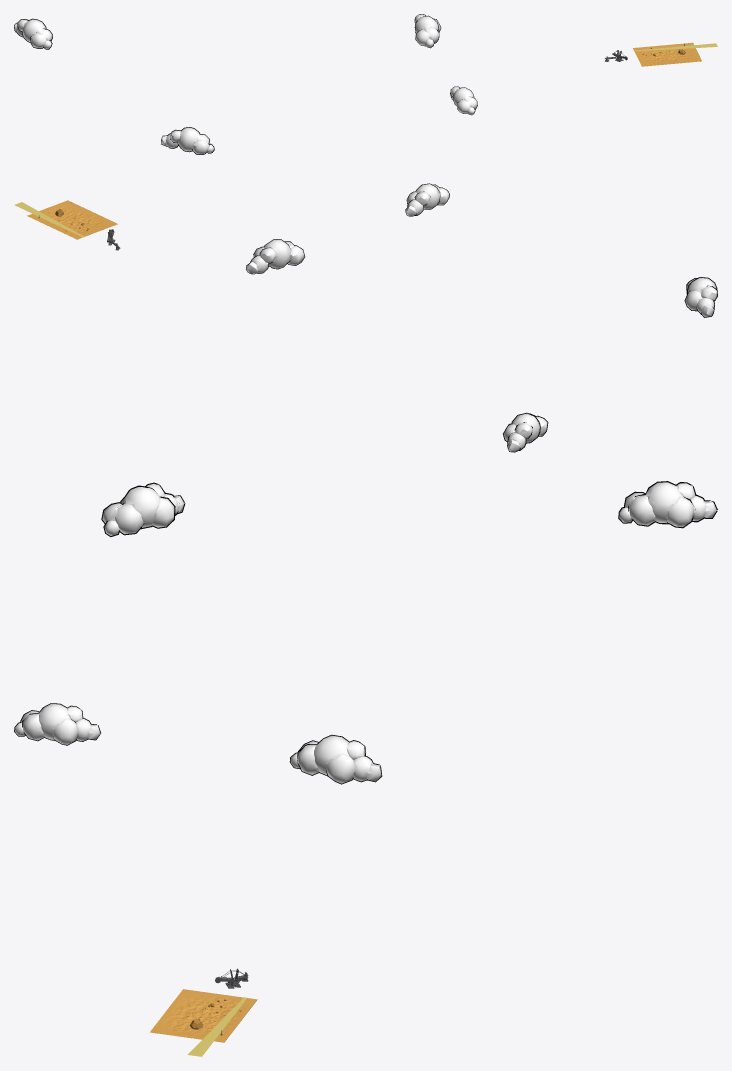
3 views of the same model, one above another, from view 1: azimuth 30°, elevation 25°; view 2: azimuth 150°, elevation 25°; view 3: azimuth 270°, elevation 25° (orthographic). The views are drawn at different scales.
Parts seen in each view (by area): view 1: Landscape.002, Object_2.002, Object_2.001, Object_2, Object_2.003, Plane; view 2: Landscape.002, Object_2, Object_2.001, Object_2.002, Object_2.003; view 3: Object_2.001, Landscape.002, Object_2, Object_2.002, Object_2.003.
Boxes of the visible parts, left/top/right/bottom form: Landscape.002: left=633, top=42, right=701, bottom=66; Object_2.002: left=161, top=127, right=214, bottom=154; Object_2.001: left=14, top=18, right=52, bottom=49; Object_2: left=414, top=14, right=441, bottom=48; Object_2.003: left=450, top=86, right=477, bottom=115; Plane: left=634, top=43, right=717, bottom=51; Landscape.002: left=27, top=200, right=117, bottom=239; Object_2: left=246, top=239, right=305, bottom=274; Object_2.001: left=503, top=412, right=548, bottom=452; Object_2.002: left=684, top=277, right=717, bottom=317; Object_2.003: left=405, top=183, right=449, bottom=216; Object_2.001: left=618, top=481, right=717, bottom=528; Landscape.002: left=150, top=989, right=257, bottom=1042; Object_2: left=289, top=734, right=382, bottom=784; Object_2.002: left=101, top=482, right=185, bottom=537; Object_2.003: left=14, top=703, right=100, bottom=745.
Bounding box in the file's own units: 681 × 74.43 × 423.
